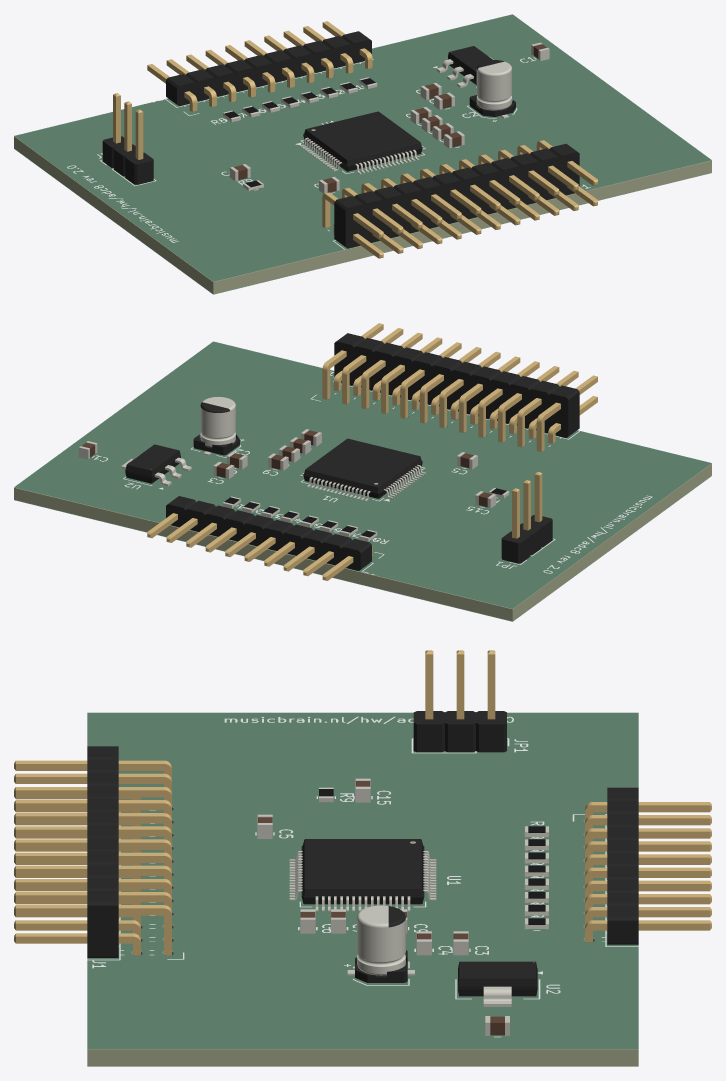
Rendered from musicbrain-adc8.glb.
3 views of the same model, one above another, from view 1: azimuth 30°, elevation 25°; view 2: azimuth 150°, elevation 25°; view 3: azimuth 270°, elevation 25° (orthographic). The views are drawn at different scales.
Visible parts, largest first — view 1: =>[0:1:1:21], =>[0:1:1:19], =>[0:1:1:3], =>[0:1:1:5], =>[0:1:1:9], =>[0:1:1:17], =>[0:1:1:15], =>[0:1:1:18], =>[0:1:1:13], =>[0:1:1:20]; view 2: =>[0:1:1:21], =>[0:1:1:19], =>[0:1:1:3], =>[0:1:1:5], =>[0:1:1:9], =>[0:1:1:17], =>[0:1:1:15], =>[0:1:1:13], =>[0:1:1:18], =>[0:1:1:20]; view 3: =>[0:1:1:21], =>[0:1:1:19], =>[0:1:1:3], =>[0:1:1:5], =>[0:1:1:9], =>[0:1:1:17], =>[0:1:1:15], =>[0:1:1:13], =>[0:1:1:18].
Boxes of the visible parts, left/top/right/bottom form: =>[0:1:1:21]: left=14, top=15, right=711, bottom=294; =>[0:1:1:19]: left=14, top=14, right=711, bottom=281; =>[0:1:1:3]: left=322, top=140, right=597, bottom=258; =>[0:1:1:5]: left=147, top=21, right=372, bottom=111; =>[0:1:1:9]: left=300, top=111, right=425, bottom=174; =>[0:1:1:17]: left=102, top=93, right=153, bottom=184; =>[0:1:1:15]: left=469, top=60, right=515, bottom=118; =>[0:1:1:18]: left=67, top=57, right=590, bottom=249; =>[0:1:1:13]: left=436, top=46, right=493, bottom=87; =>[0:1:1:20]: left=14, top=148, right=711, bottom=294; =>[0:1:1:21]: left=14, top=342, right=711, bottom=621; =>[0:1:1:19]: left=14, top=341, right=711, bottom=608; =>[0:1:1:3]: left=322, top=323, right=597, bottom=451; =>[0:1:1:5]: left=147, top=496, right=372, bottom=580; =>[0:1:1:9]: left=300, top=438, right=425, bottom=501; =>[0:1:1:17]: left=501, top=472, right=552, bottom=563; =>[0:1:1:15]: left=193, top=397, right=239, bottom=455; =>[0:1:1:13]: left=121, top=444, right=191, bottom=486; =>[0:1:1:18]: left=92, top=371, right=652, bottom=574; =>[0:1:1:20]: left=14, top=476, right=711, bottom=621; =>[0:1:1:21]: left=87, top=713, right=638, bottom=1066; =>[0:1:1:19]: left=87, top=712, right=638, bottom=1048; =>[0:1:1:3]: left=14, top=746, right=171, bottom=957; =>[0:1:1:5]: left=585, top=787, right=711, bottom=944; =>[0:1:1:9]: left=289, top=839, right=436, bottom=911; =>[0:1:1:17]: left=413, top=650, right=506, bottom=752; =>[0:1:1:15]: left=347, top=905, right=414, bottom=982; =>[0:1:1:13]: left=458, top=961, right=537, bottom=1006; =>[0:1:1:18]: left=87, top=716, right=638, bottom=1037.
Bounding box in the file's own units: 0.065 × 0.0115 × 0.057.
